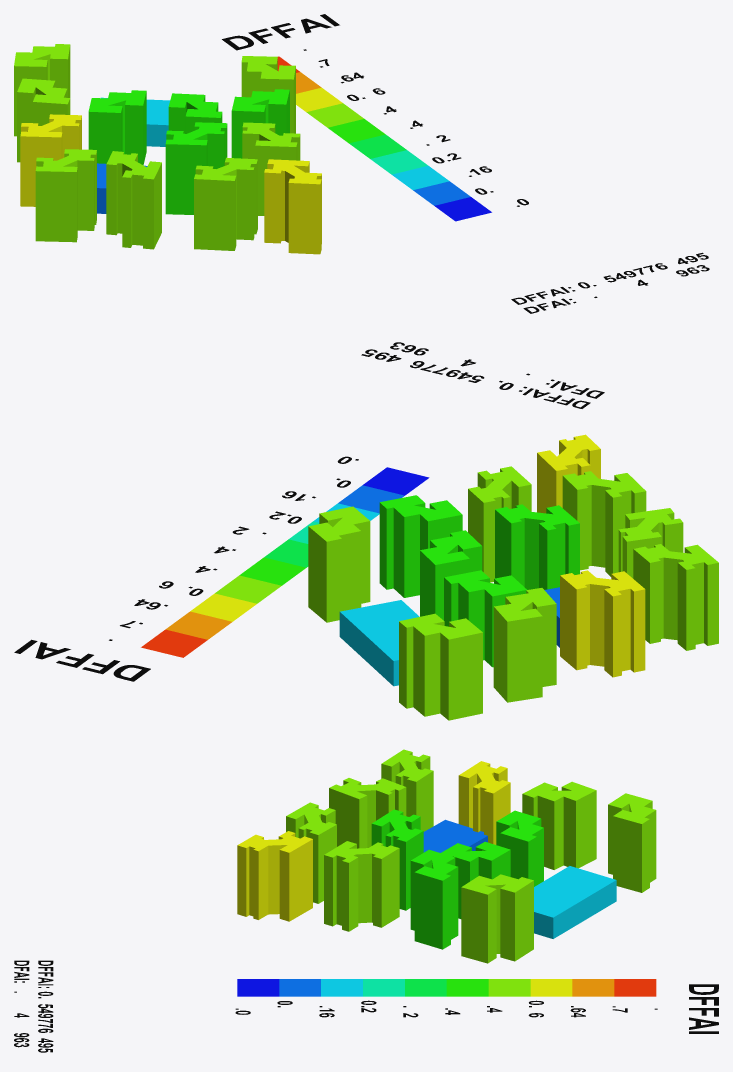
Rendered from punggol_luse101_dfavi2.dae.
3 renders of one model, top to bottom at view 1: azimuth 30°, elevation 25°; view 2: azimuth 150°, elevation 25°; view 3: azimuth 270°, elevation 25°, orthographic. The views are drawn at different scales.
Visible parts, largest first — view 1: node0 (×14); view 2: node0 (×13); view 3: node0 (×16).
Part boxes in pixels (x1=…): node0 (×14): x1=14, y1=14, x2=709, y2=313; node0 (×13): x1=14, y1=342, x2=718, y2=720; node0 (×16): x1=14, y1=749, x2=718, y2=1052.
Size of the model in its own units: 357 by 445 by 48.
